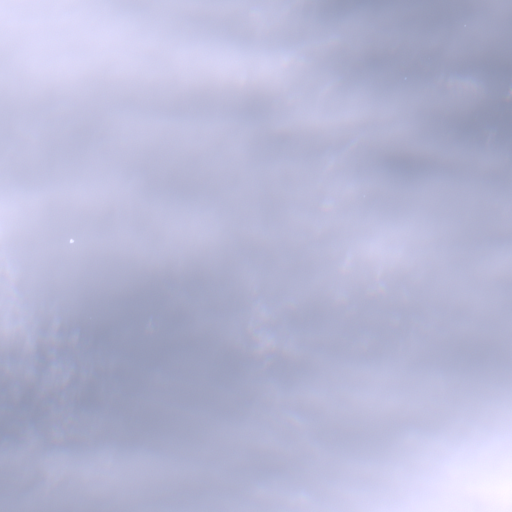Iceberg: (70, 239, 73, 242)
